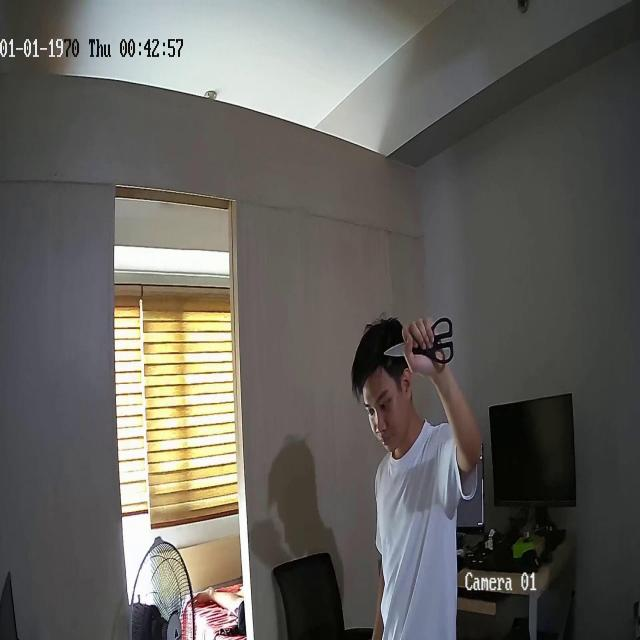scissor: (385, 316, 453, 366)
